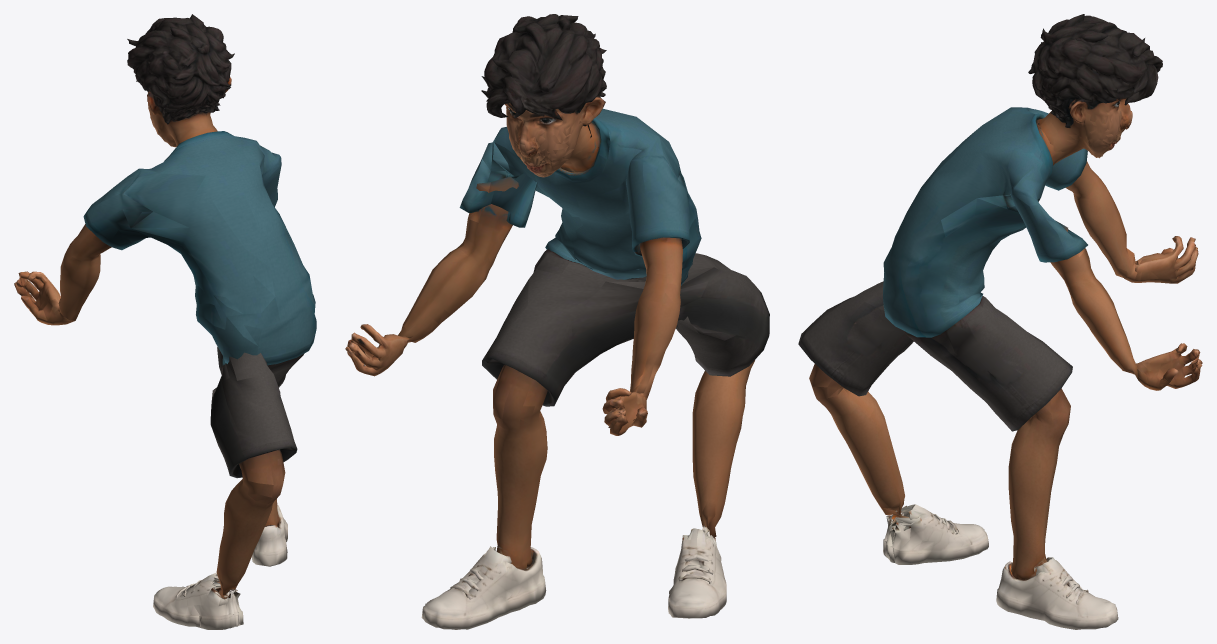
The model's file is teen_courier_seated_v2.glb.
3 renders of one model, left to right at view 1: azimuth 30°, elevation 25°; view 2: azimuth 150°, elevation 25°; view 3: azimuth 270°, elevation 25°, orthographic. The views are drawn at different scales.
Parts seen in each view (by area): view 1: TeenCourierSeatedBody; view 2: TeenCourierSeatedBody; view 3: TeenCourierSeatedBody.
Part boxes in pixels (left/top/right/bottom): TeenCourierSeatedBody: left=14, top=14, right=316, bottom=629; TeenCourierSeatedBody: left=345, top=14, right=769, bottom=629; TeenCourierSeatedBody: left=798, top=14, right=1202, bottom=629.
Size of the model in its own units: 0.7307 by 1.5 by 0.9779.
1 material, 1 textured.
